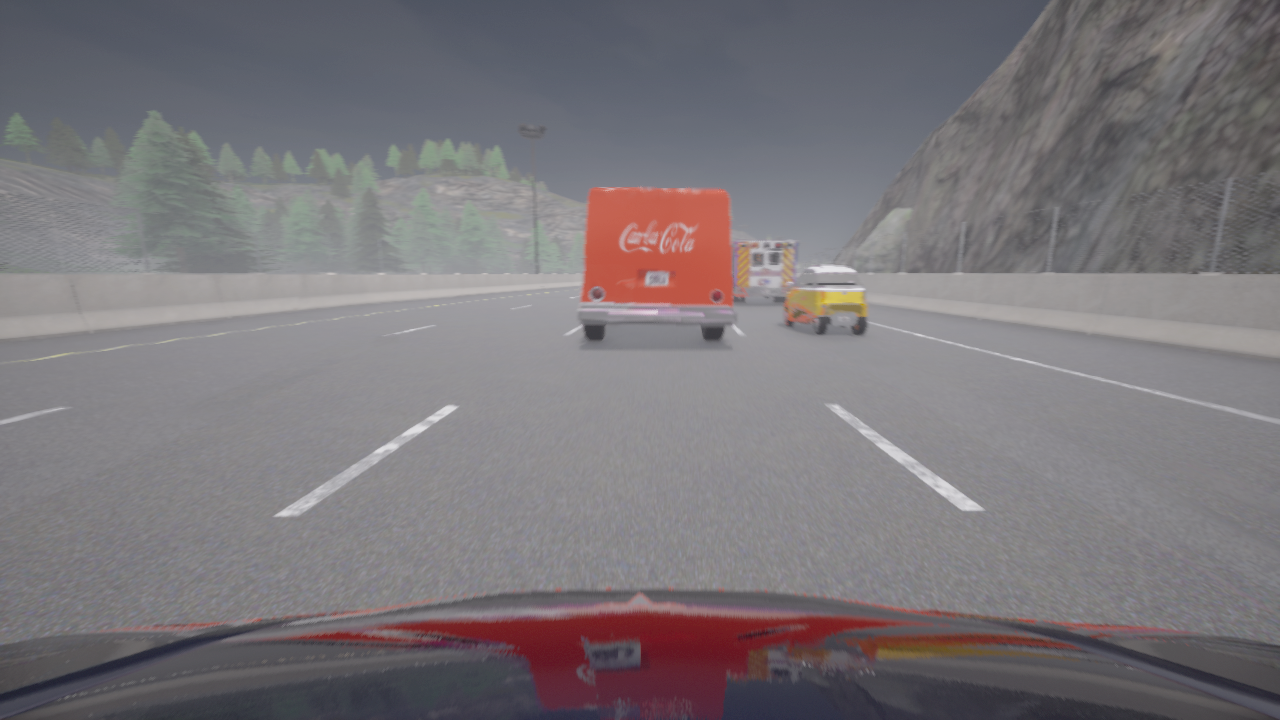cyclist: (0, 588, 1279, 719), (578, 188, 736, 340), (784, 266, 866, 335), (730, 240, 797, 303)
